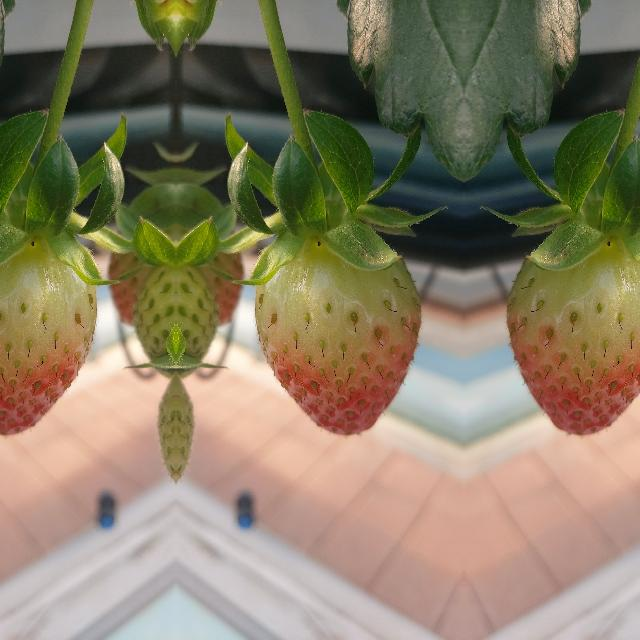Health_50: (254, 239, 421, 435), (505, 239, 640, 435), (0, 239, 96, 435)
